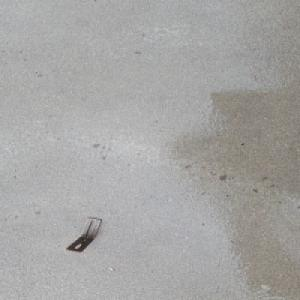MetalPart: (65, 217, 104, 253)
